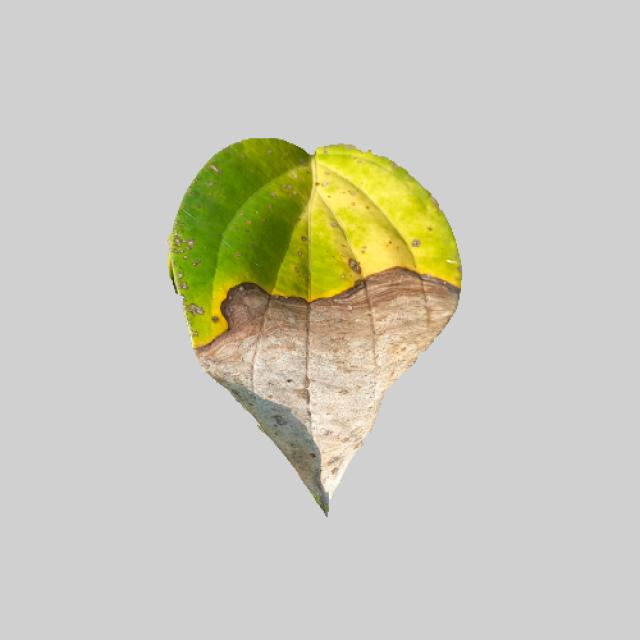leaf-blight: (159, 140, 471, 520)
